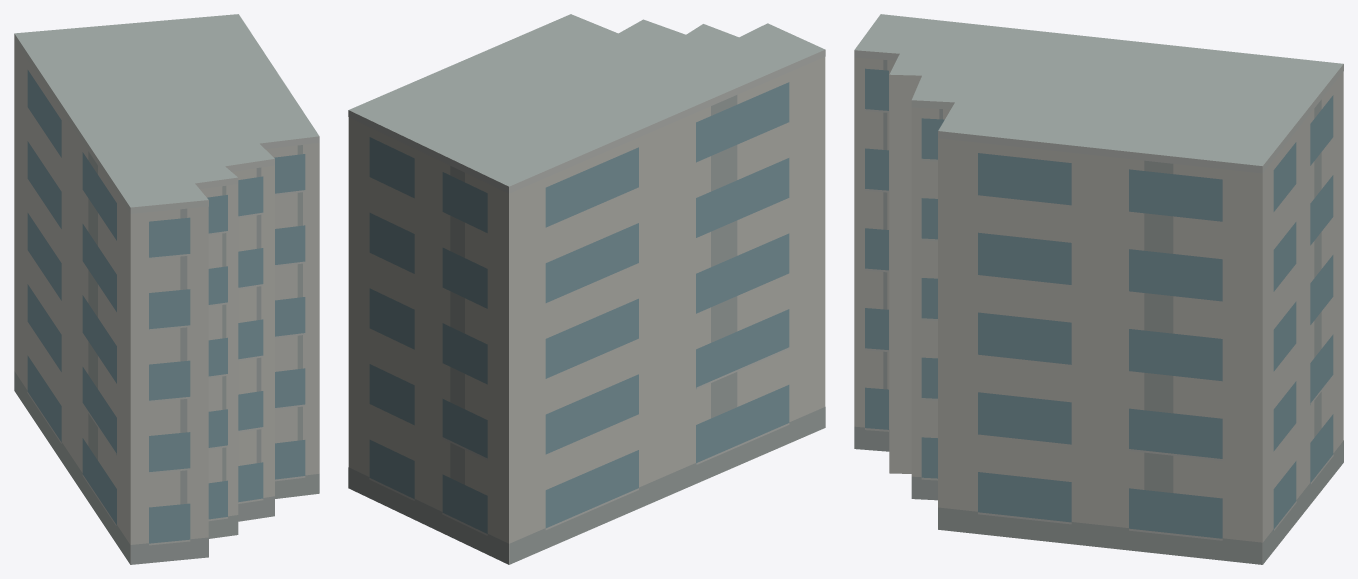
The model's file is survey-upis-32801001.glb.
3 renders of one model, left to right at view 1: azimuth 30°, elevation 25°; view 2: azimuth 150°, elevation 25°; view 3: azimuth 270°, elevation 25°, orthographic. The views are drawn at different scales.
Parts seen in each view (by area): view 1: survey-upis-32801001.tmp; view 2: survey-upis-32801001.tmp; view 3: survey-upis-32801001.tmp.
Part boxes in pixels (x1,y1,x2,y2): survey-upis-32801001.tmp: [14, 14, 319, 564]; survey-upis-32801001.tmp: [348, 14, 825, 564]; survey-upis-32801001.tmp: [854, 14, 1343, 564].
Bounding box in the file's own units: 10.87 × 13.27 × 14.78.
